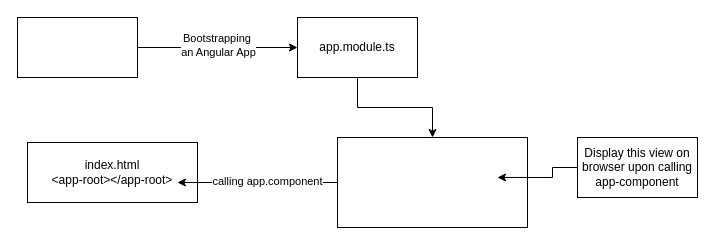
This 715x245 diagram has some shape labels left out. The centre of each missing label's shape, as x and y in pixels:
"app.component.css app.component.html app.component.spec.ts app.component.ts" belongs at (432,182).
"main.ts" belongs at (77,47).
